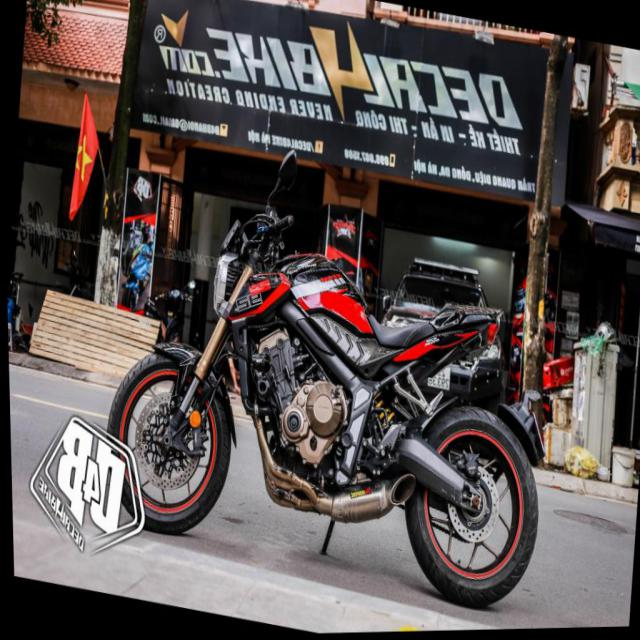CB650R: (88, 177, 562, 626)
